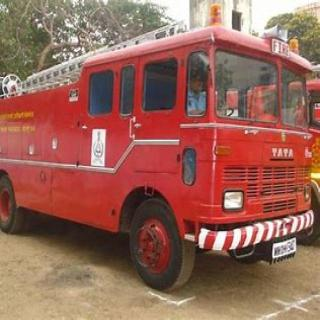Fire_truck: (0, 2, 319, 292)
